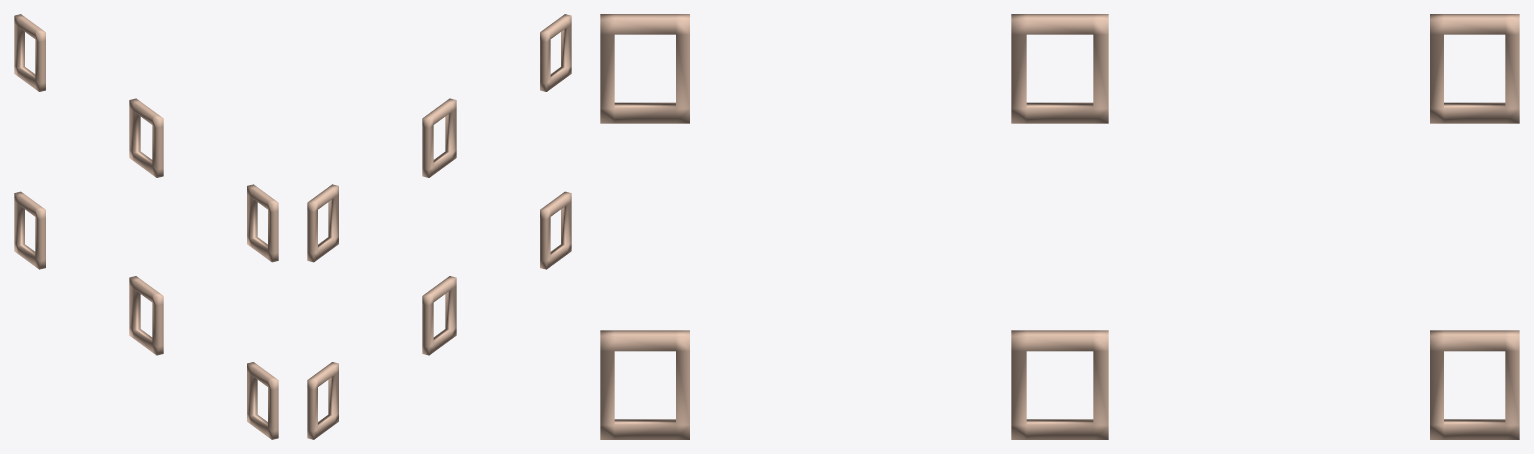
File: MuellWall_Fenster_Rahmen.fbx
3 renders of one model, left to right at view 1: azimuth 30°, elevation 25°; view 2: azimuth 150°, elevation 25°; view 3: azimuth 270°, elevation 25°, orthographic. The views are drawn at different scales.
Visible parts, largest first — view 1: Innenhof_Rahmen_WandB; view 2: Innenhof_Rahmen_WandB; view 3: Innenhof_Rahmen_WandB.
Boxes of the visible parts, x1,y1,x2,y2 form: Innenhof_Rahmen_WandB: [14, 14, 278, 439]; Innenhof_Rahmen_WandB: [307, 14, 571, 439]; Innenhof_Rahmen_WandB: [600, 14, 1519, 439].
Bounding box in the file's own units: 14.04 × 467 × 927.
